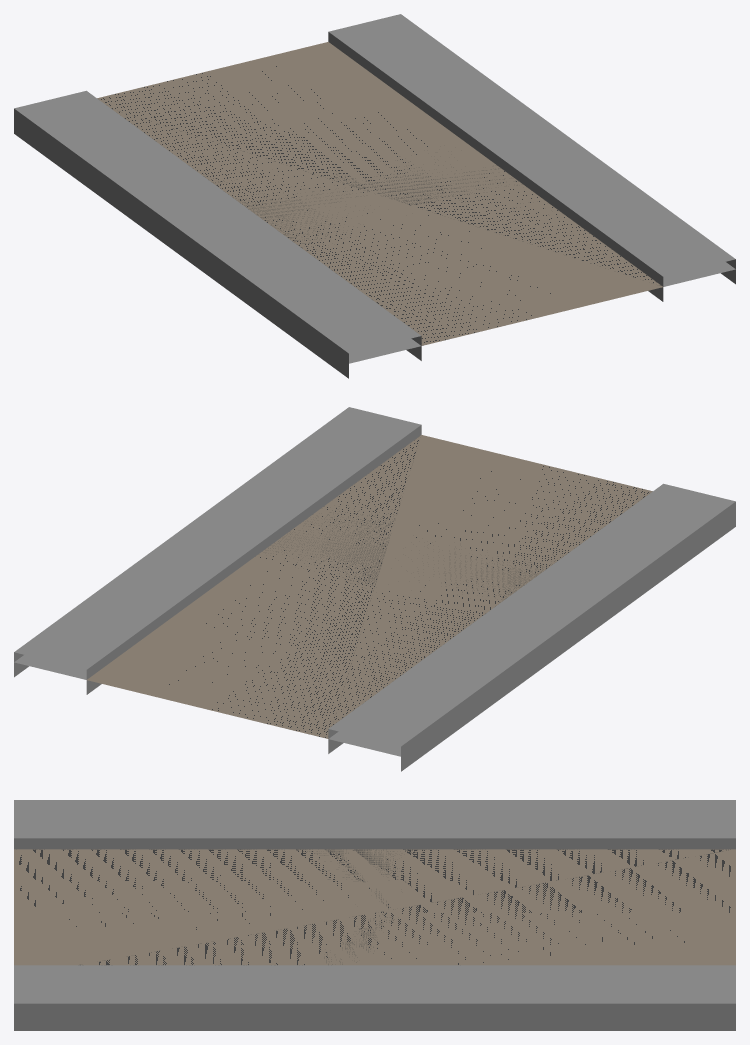
3 views of the same model, one above another, from view 1: azimuth 30°, elevation 25°; view 2: azimuth 150°, elevation 25°; view 3: azimuth 270°, elevation 25° (orthographic). The views are drawn at different scales.
Visible parts, largest first — view 1: Model_0, Skybox; view 2: Model_0, Skybox; view 3: Model_0, Skybox.
Part boxes in pixels (bbox=[...]): Model_0: bbox=[14, 14, 735, 378]; Skybox: bbox=[211, 143, 735, 363]; Model_0: bbox=[14, 407, 735, 771]; Skybox: bbox=[14, 435, 652, 756]; Model_0: bbox=[14, 800, 735, 1030]; Skybox: bbox=[14, 849, 423, 965].
Size of what is drawn, in the model's own units: 1600 by 100 by 2400.
